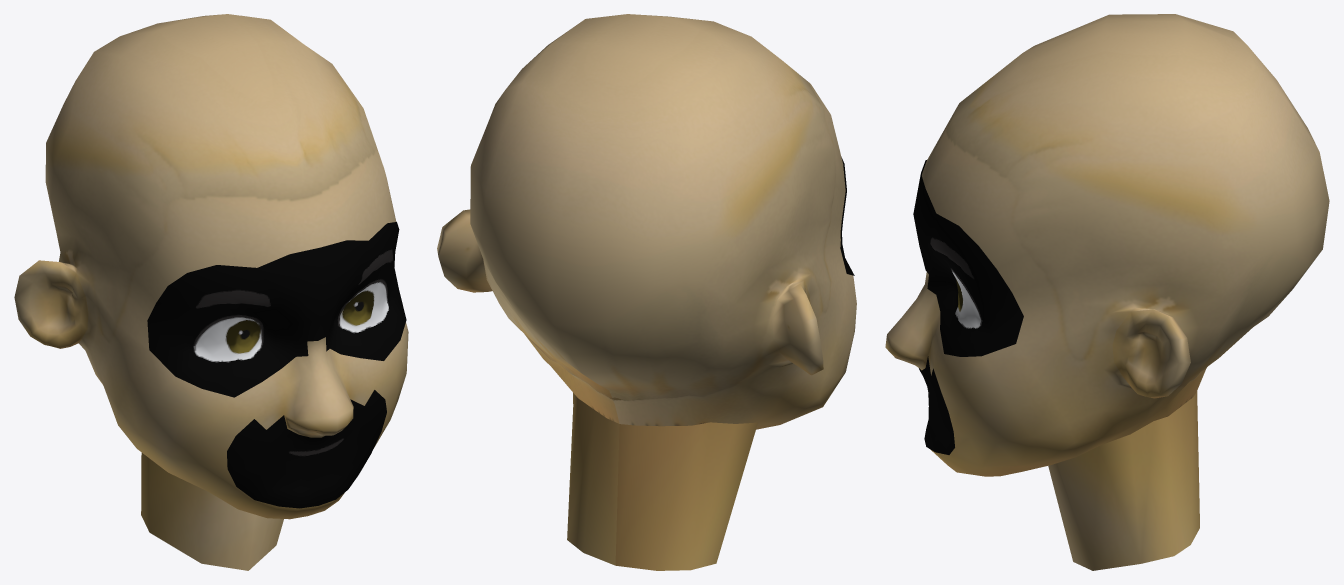
Rendered from M_Head_00.fbx.
3 views of the same model, side by side, from view 1: azimuth 30°, elevation 25°; view 2: azimuth 150°, elevation 25°; view 3: azimuth 270°, elevation 25° (orthographic). The views are drawn at different scales.
Parts seen in each view (by area): view 1: MDL_M_Head_00; view 2: MDL_M_Head_00; view 3: MDL_M_Head_00.
Boxes of the visible parts, x1,y1,x2,y2 form: MDL_M_Head_00: (14, 14, 408, 570); MDL_M_Head_00: (437, 14, 856, 570); MDL_M_Head_00: (885, 14, 1329, 570).
Size of the model in its own units: 3.76 by 5.12 by 3.92.
